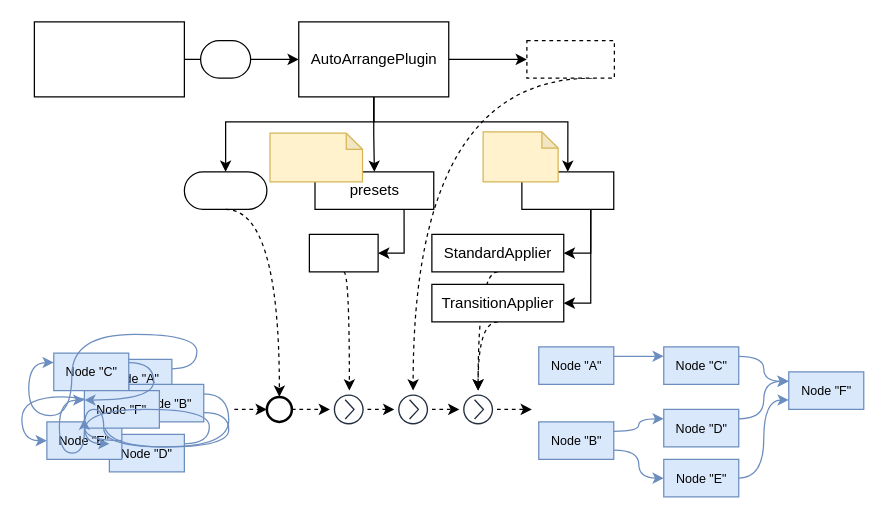
This 886x519 diagram has some shape labels left out. The centre of each missing label's shape, as x and y in pixels:
"appliers" goes at [567,190].
"apply positions" goes at [520,156].
"classic" goes at [343,252].
"elk.js" goes at [570,58].
"layout" goes at [225,190].
"NodeEditor" goes at [108,59].
"ports placement" goes at [315,157].
"use" goes at [225,58].
